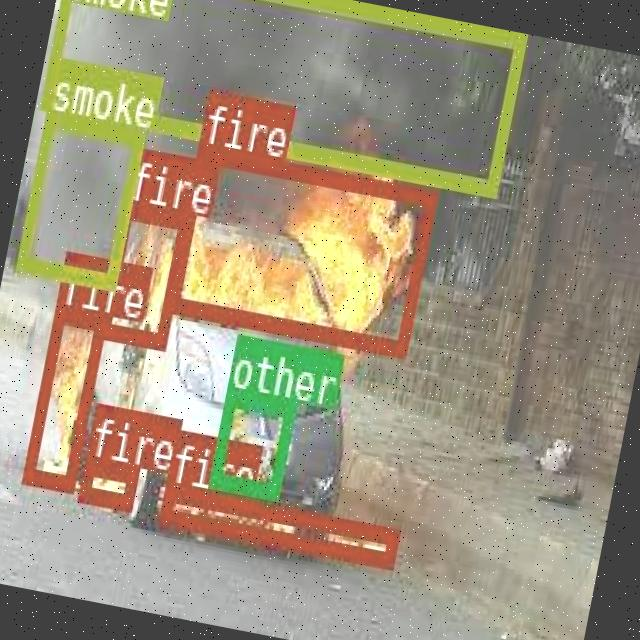fire: (165, 143, 436, 354), (157, 481, 399, 565), (20, 302, 106, 488), (97, 201, 189, 346), (78, 456, 138, 506)
smoke: (38, 0, 524, 194), (15, 111, 144, 286)
